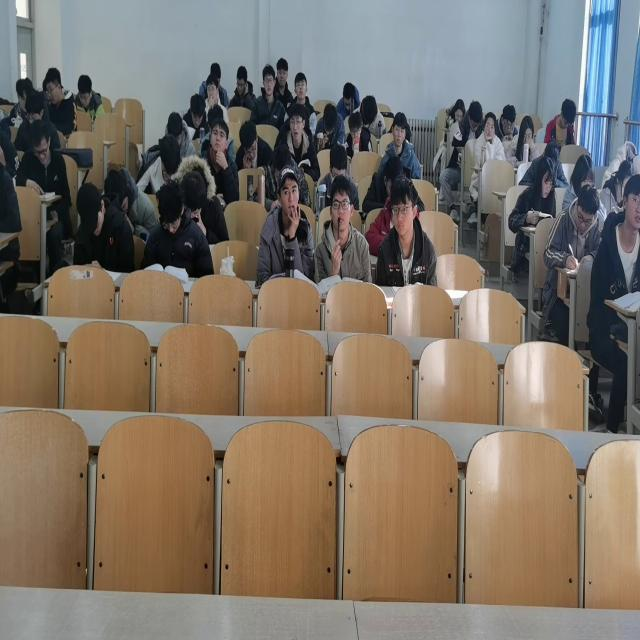bow: (174, 153, 230, 245), (104, 164, 160, 244), (135, 130, 181, 198), (362, 153, 404, 213), (235, 118, 274, 169), (312, 99, 345, 150), (451, 100, 485, 147), (354, 94, 387, 133), (336, 80, 361, 120), (495, 104, 517, 141), (444, 97, 466, 131)
down: (76, 182, 104, 239), (157, 182, 185, 236), (179, 169, 207, 222), (103, 168, 129, 218), (575, 183, 600, 234), (29, 116, 52, 164), (159, 132, 180, 180), (536, 154, 556, 198), (329, 142, 348, 187), (239, 118, 258, 160), (24, 88, 44, 127), (190, 92, 207, 128), (77, 74, 93, 110), (322, 101, 338, 137), (501, 101, 516, 138), (560, 98, 576, 131), (362, 92, 378, 124), (468, 99, 483, 132), (342, 81, 356, 113), (348, 108, 362, 140), (520, 116, 534, 147), (235, 64, 247, 98), (454, 95, 465, 121)
lookup: (389, 172, 419, 235), (330, 174, 354, 234), (276, 165, 301, 217), (621, 171, 640, 233), (209, 117, 230, 153), (390, 111, 408, 149), (289, 103, 306, 142), (261, 61, 276, 97), (293, 70, 309, 99), (483, 109, 497, 139), (206, 74, 219, 106), (276, 57, 289, 89)
sit: (141, 178, 215, 278), (256, 165, 314, 281), (375, 176, 437, 284), (313, 172, 372, 282), (590, 171, 640, 300), (73, 181, 136, 274), (542, 184, 602, 271), (16, 116, 69, 192), (508, 155, 557, 233), (275, 100, 321, 180), (200, 117, 240, 201), (314, 144, 360, 213), (15, 89, 61, 153), (380, 109, 421, 177), (249, 60, 288, 124), (44, 64, 78, 136), (474, 110, 506, 167), (291, 69, 317, 137), (506, 113, 539, 166), (544, 98, 577, 147), (182, 90, 210, 141), (228, 64, 257, 112), (74, 72, 104, 116), (202, 74, 228, 124), (344, 109, 372, 155), (274, 56, 294, 110)
